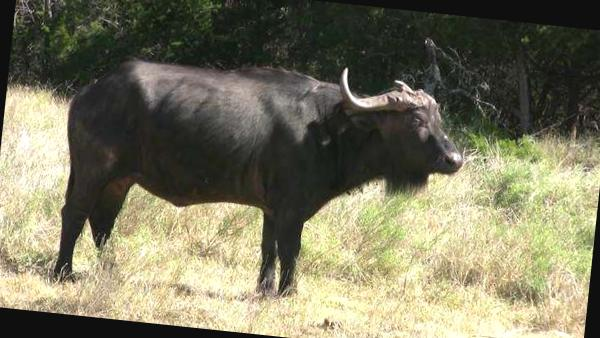Buffalo: (0, 32, 492, 338)
